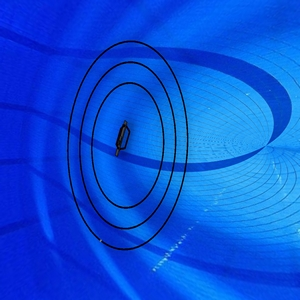circle: (65, 38, 192, 254)
submarine: (110, 118, 139, 161)
